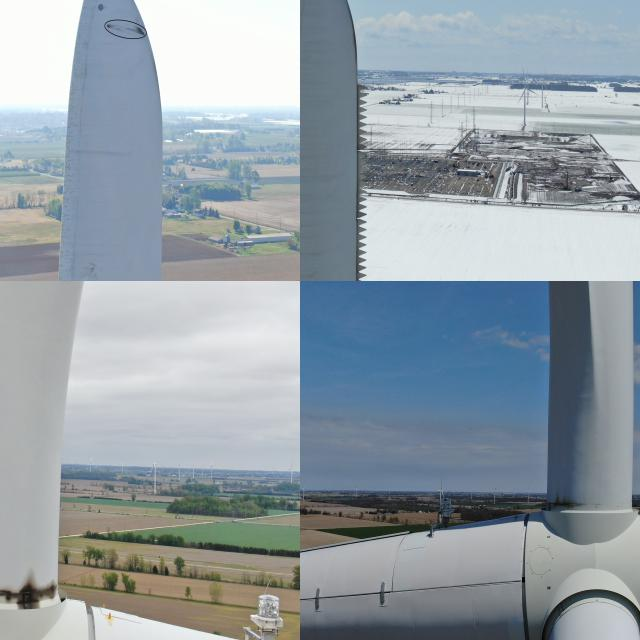damage: (12, 566, 59, 620), (544, 487, 586, 511), (106, 22, 110, 28)
